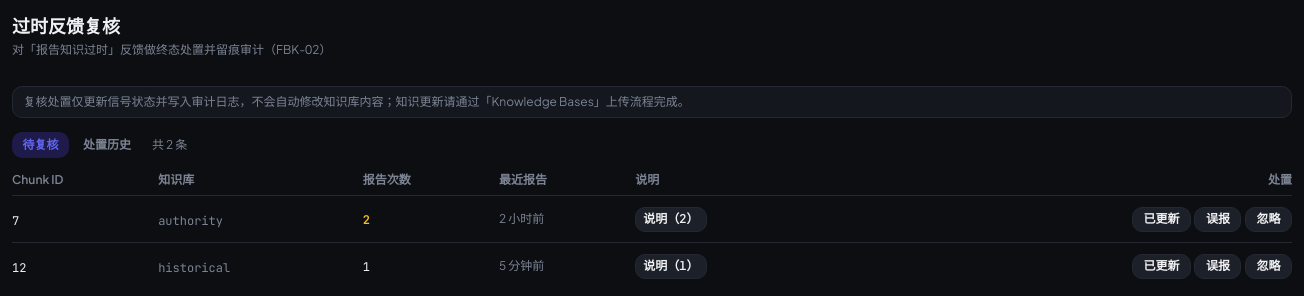
Test: ReviewQueuePanel — disposition verb › single-click POSTs {chunk_id, disposition}, refetches pending, and toasts the closed count
What coordinates should you click on to do the following:
click the button with test id "review-dispose-7-updated"
I would click on:
 (1162, 219)
Its box is [1132,207,1191,232].
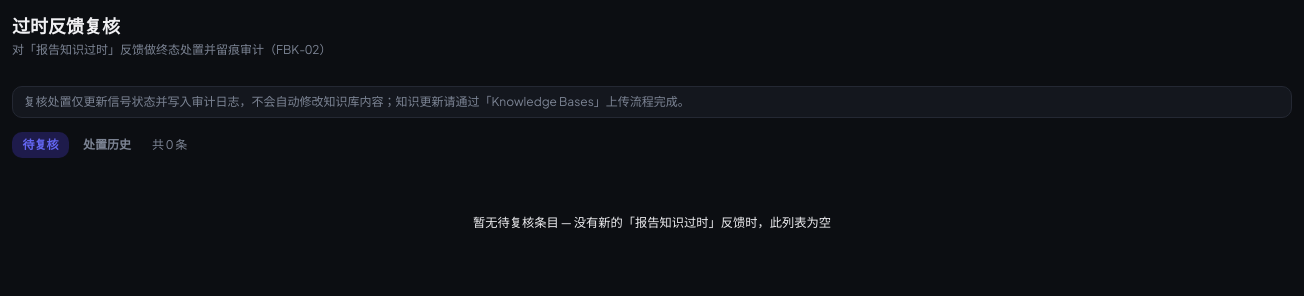
Expected: the element with test id "review-empty" is shown, [473,214,831,230]
